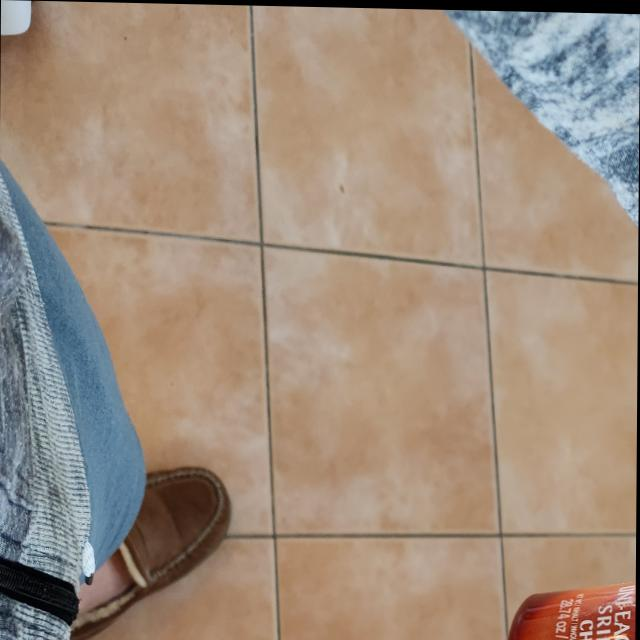sriracha: (508, 544, 637, 640)
